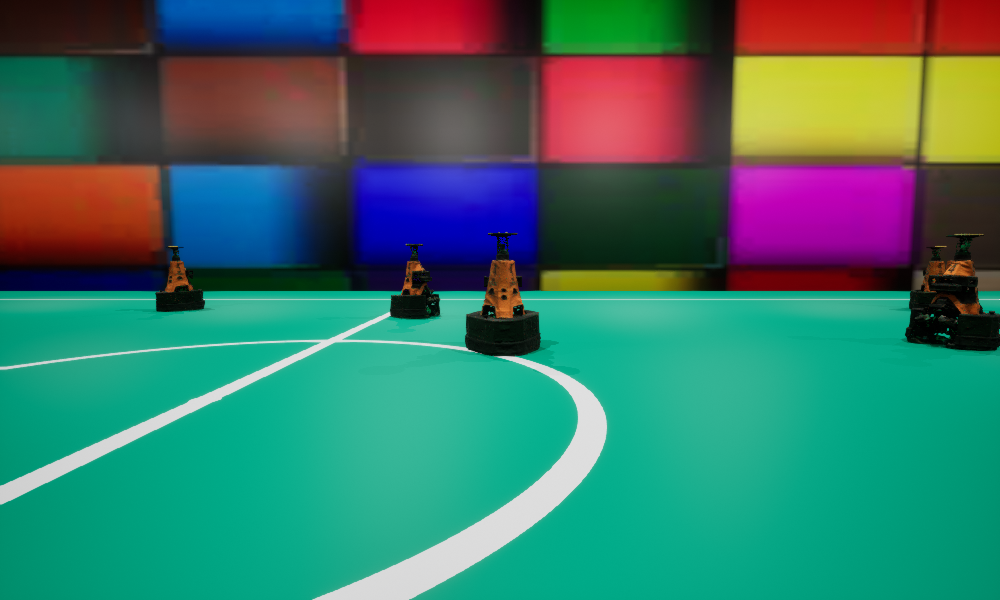0 orange robot TechUnited: (905, 234, 999, 349), (465, 232, 540, 355), (390, 244, 439, 318), (155, 246, 204, 311), (909, 246, 946, 308)
